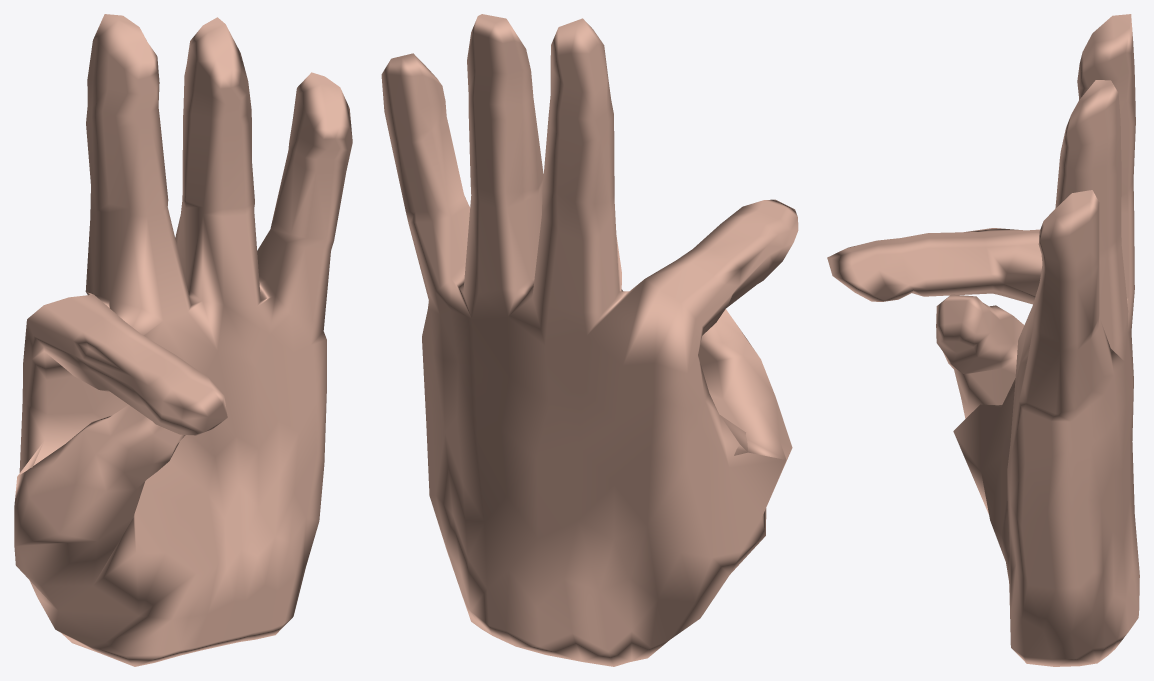
File: MAO_T.obj
The picture shows the model from 3 angles, left to right: view 1: azimuth 30°, elevation 25°; view 2: azimuth 150°, elevation 25°; view 3: azimuth 270°, elevation 25°; orthographic projection. The views are drawn at different scales.
Parts seen in each view (by area): view 1: mao_dir polySurface1; view 2: mao_dir polySurface1; view 3: mao_dir polySurface1.
Boxes of the visible parts, x1,y1,x2,y2 form: mao_dir polySurface1: (14,14,352,666); mao_dir polySurface1: (381,14,798,666); mao_dir polySurface1: (827,14,1139,666).
Size of the model in its own units: 149 by 243 by 116.
